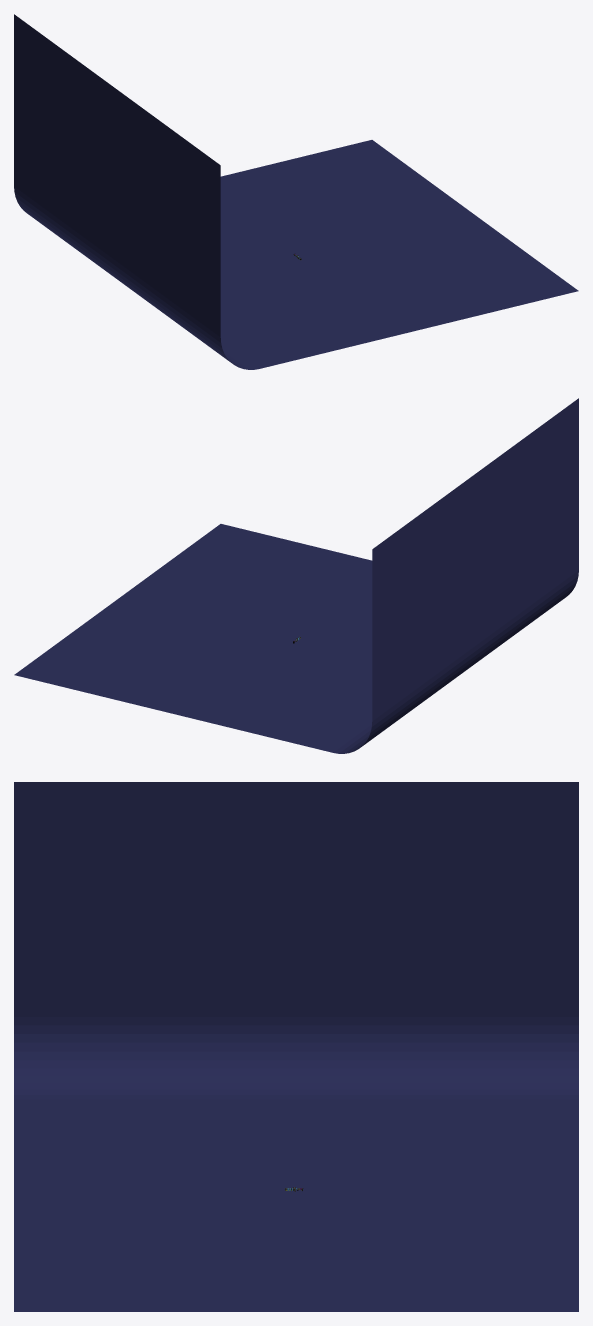
Rendered from lowpoly gun.fbx.
3 renders of one model, top to bottom at view 1: azimuth 30°, elevation 25°; view 2: azimuth 150°, elevation 25°; view 3: azimuth 270°, elevation 25°, orthographic. The views are drawn at different scales.
Parts seen in each view (by area): view 1: Plane; view 2: Plane; view 3: Plane.
Part boxes in pixels (box(x1,y1,x2,y2)): Plane: box(14, 14, 578, 369); Plane: box(14, 398, 578, 753); Plane: box(14, 782, 578, 1311).
Bounding box in the file's own units: 19747 × 11242 × 19747.
